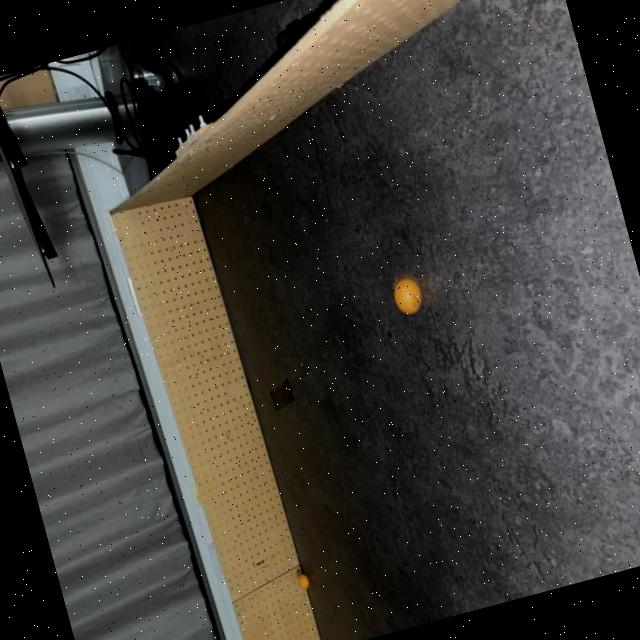ping-pong-ball: (390, 272, 428, 320), (390, 272, 424, 311), (296, 570, 310, 588)
